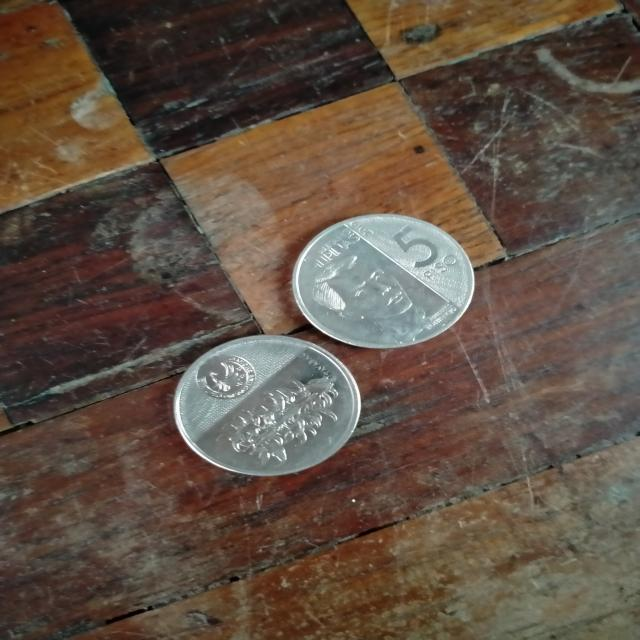5_New_Back: (212, 362, 351, 469)
5_New_Front: (382, 214, 461, 284)
